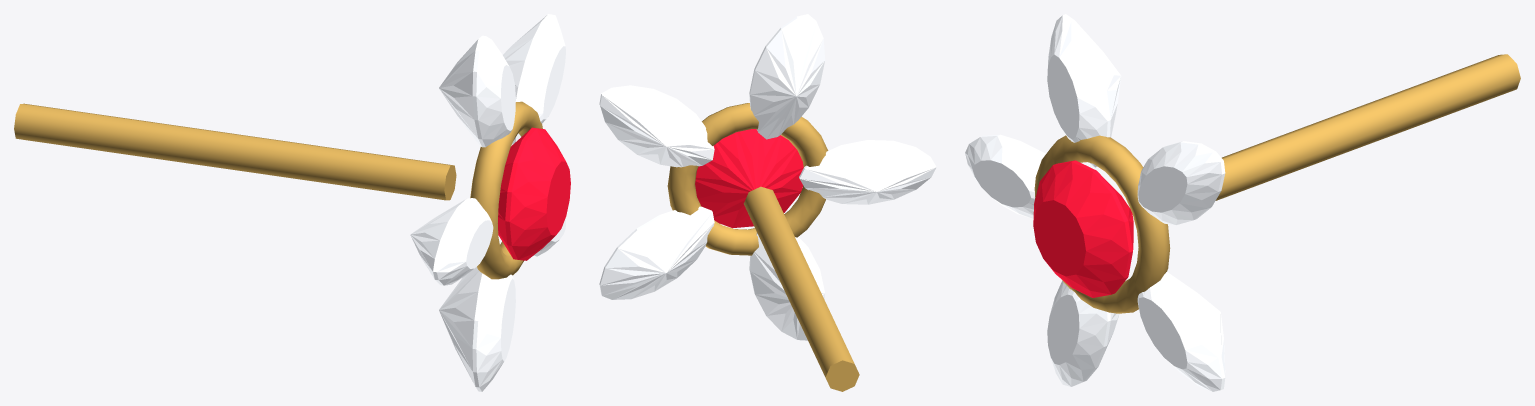
The model's file is nosepin-ruby-flower.glb.
3 views of the same model, side by side, from view 1: azimuth 30°, elevation 25°; view 2: azimuth 150°, elevation 25°; view 3: azimuth 270°, elevation 25° (orthographic). The views are drawn at different scales.
Visible parts, largest first — view 1: nosepin-ruby-flower_diamond, nosepin-ruby-flower_gold22k, nosepin-ruby-flower_ruby; view 2: nosepin-ruby-flower_diamond, nosepin-ruby-flower_gold22k, nosepin-ruby-flower_ruby; view 3: nosepin-ruby-flower_diamond, nosepin-ruby-flower_gold22k, nosepin-ruby-flower_ruby.
Part boxes in pixels (<box>): nosepin-ruby-flower_diamond: <box>410,14,565,391</box>; nosepin-ruby-flower_gold22k: <box>14,101,542,279</box>; nosepin-ruby-flower_ruby: <box>498,127,570,260</box>; nosepin-ruby-flower_diamond: <box>599,14,936,340</box>; nosepin-ruby-flower_gold22k: <box>667,103,859,391</box>; nosepin-ruby-flower_ruby: <box>695,129,803,228</box>; nosepin-ruby-flower_diamond: <box>965,14,1225,391</box>; nosepin-ruby-flower_gold22k: <box>1034,54,1520,313</box>; nosepin-ruby-flower_ruby: <box>1033,160,1133,297</box>.
Bounding box in the file's own units: 0.6286 × 0.5136 × 0.7002.
